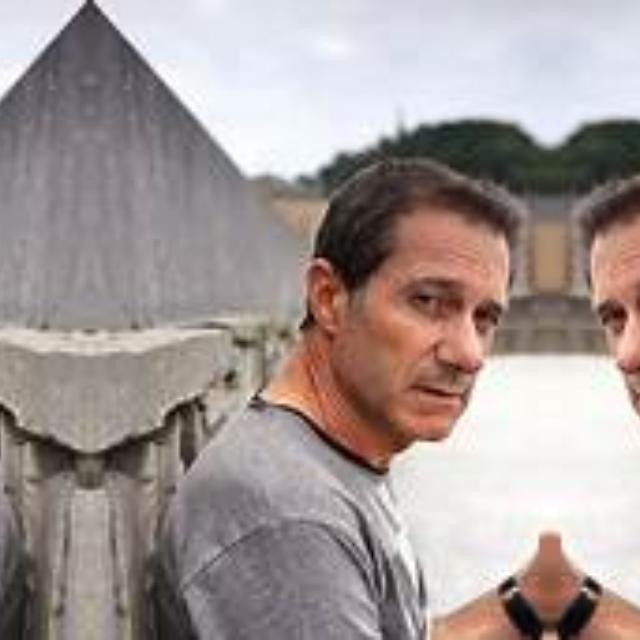person: (228, 136, 550, 640), (549, 136, 640, 640)
